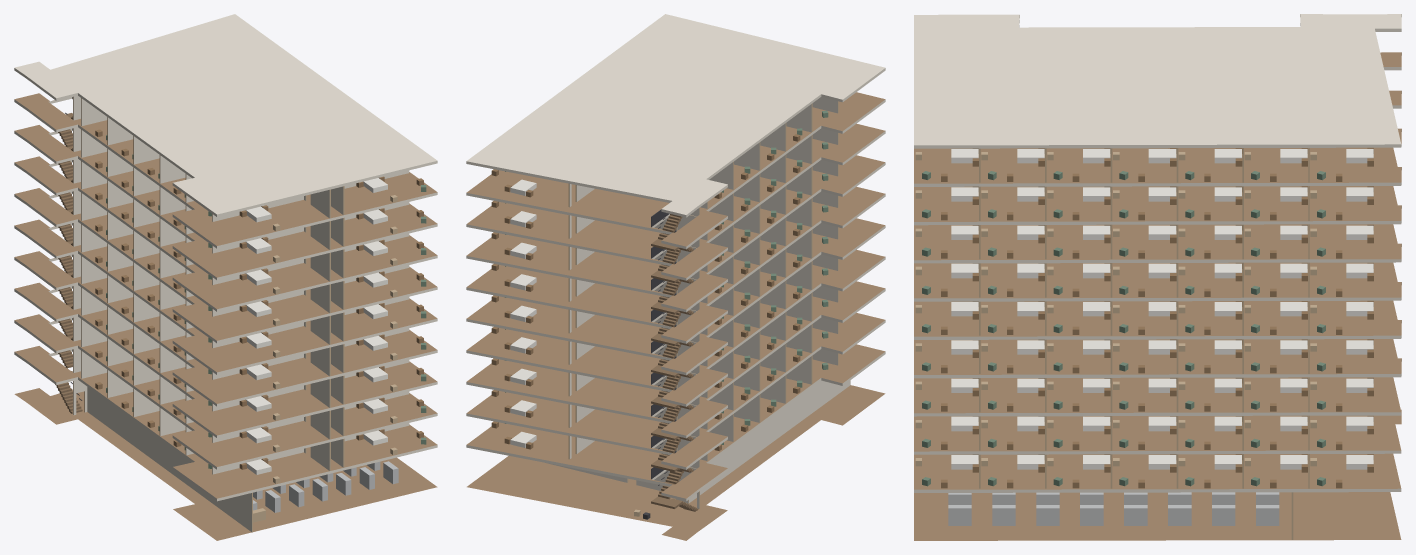
File: interior.glb
3 views of the same model, side by side, from view 1: azimuth 30°, elevation 25°; view 2: azimuth 150°, elevation 25°; view 3: azimuth 270°, elevation 25° (orthographic). The views are drawn at different scales.
Parts seen in each view (by area): view 1: slabs, partitions, coarse-s0, stair, coarse-s3, coarse-s7, coarse-s6, coarse-s1, coarse-s5, coarse-s9, coarse-s4, coarse-s8 (+1 smaller); view 2: slabs, partitions, stair, coarse-s2, coarse-s4, coarse-s5, coarse-s9, coarse-s7, coarse-s6, coarse-s8, coarse-s1, coarse-s3; view 3: slabs, coarse-s0, coarse-s6, coarse-s2, coarse-s1, coarse-s7, coarse-s3, coarse-s8, coarse-s5, coarse-s4, coarse-s9, partitions.
Boxes of the visible parts, <box> form: slabs: <box>14,14,437,540</box>; partitions: <box>73,95,409,532</box>; coarse-s0: <box>253,461,398,522</box>; stair: <box>55,112,82,413</box>; coarse-s3: <box>95,319,426,420</box>; coarse-s7: <box>95,192,426,294</box>; coarse-s6: <box>95,224,426,325</box>; coarse-s1: <box>95,382,426,483</box>; coarse-s5: <box>95,256,426,357</box>; coarse-s9: <box>95,129,426,231</box>; coarse-s4: <box>95,287,426,388</box>; coarse-s8: <box>95,161,426,262</box>; slabs: <box>466,14,885,540</box>; partitions: <box>545,97,850,508</box>; stair: <box>651,209,698,511</box>; coarse-s2: <box>491,331,828,419</box>; coarse-s4: <box>491,268,828,356</box>; coarse-s5: <box>491,236,828,324</box>; coarse-s9: <box>491,110,828,198</box>; coarse-s7: <box>491,173,828,261</box>; coarse-s6: <box>491,205,828,293</box>; coarse-s8: <box>491,142,828,230</box>; coarse-s1: <box>491,362,828,451</box>; coarse-s3: <box>491,299,828,387</box>; slabs: <box>914,14,1401,540</box>; coarse-s0: <box>948,492,1279,525</box>; coarse-s6: <box>915,262,1373,296</box>; coarse-s2: <box>915,415,1373,449</box>; coarse-s1: <box>915,454,1373,488</box>; coarse-s7: <box>915,224,1373,258</box>; coarse-s3: <box>915,377,1373,411</box>; coarse-s8: <box>915,186,1373,220</box>; coarse-s5: <box>915,300,1373,334</box>; coarse-s4: <box>915,339,1373,373</box>; coarse-s9: <box>915,147,1373,181</box>; partitions: <box>979,148,1309,539</box>.
Bounding box in the file's own units: 22.64 × 31.8 × 35.51.
